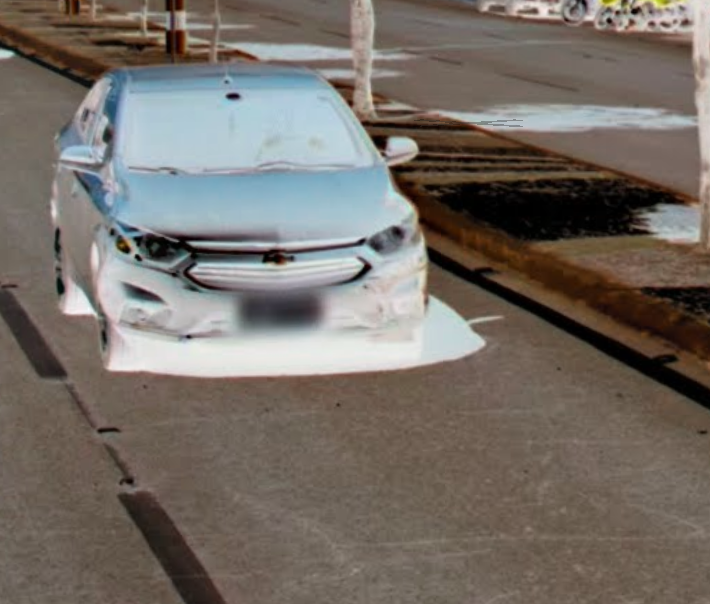car: (43, 41, 455, 377)
